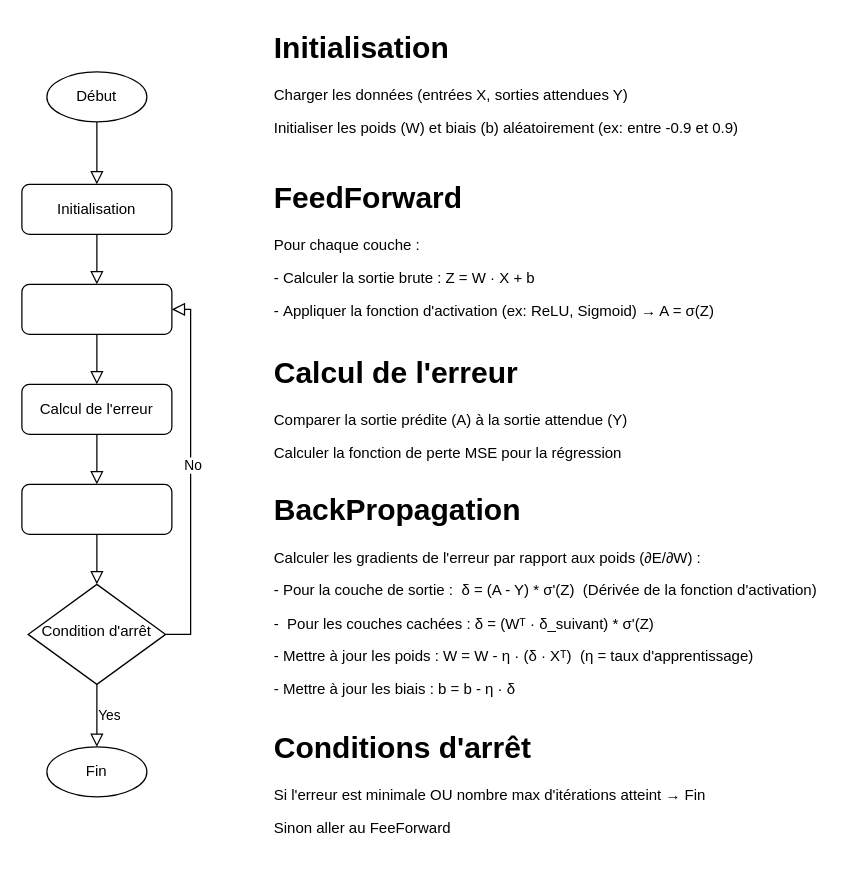
This 844x871 diagram has some shape labels left out. The shapes that lost their labels are listed below. From the top down, each one's box as (x1, y1, x2, y2) in pixels, then its label:
(21, 283, 172, 334): FeedForward
(21, 483, 172, 534): BackPropagation
